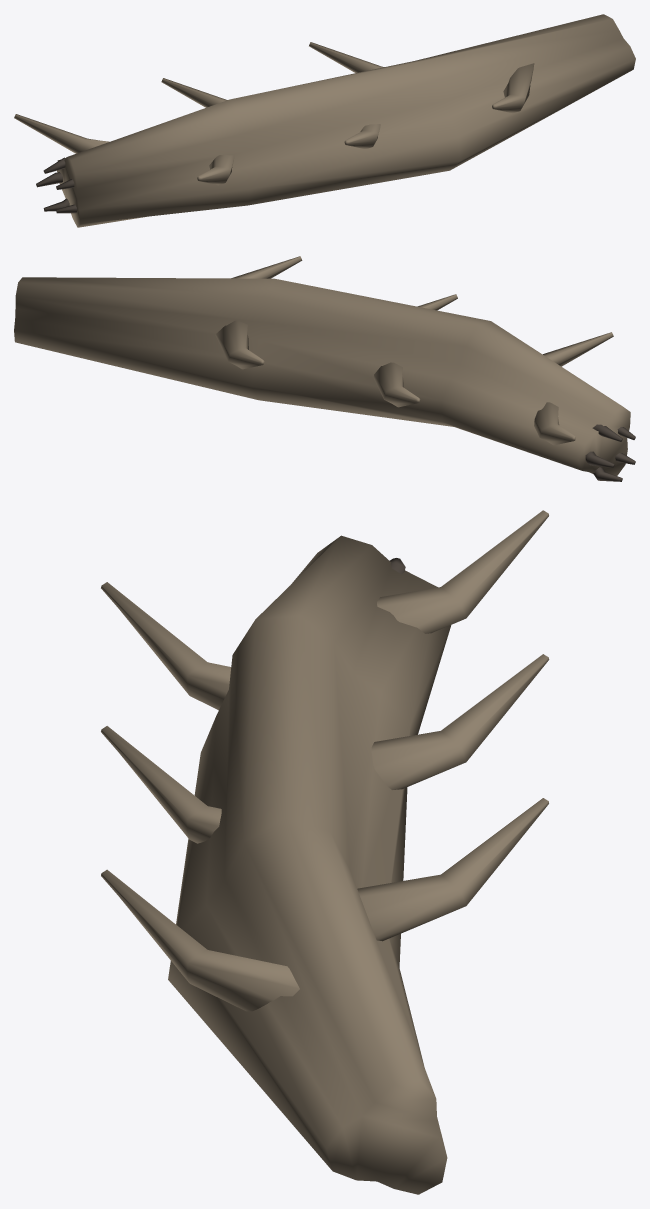
The model's file is sc_driftwood.glb.
3 renders of one model, top to bottom at view 1: azimuth 30°, elevation 25°; view 2: azimuth 150°, elevation 25°; view 3: azimuth 270°, elevation 25°, orthographic. The views are drawn at different scales.
Visible parts, largest first — view 1: sc_driftwood; view 2: sc_driftwood; view 3: sc_driftwood.
Boxes of the visible parts, box(x1,y1,x2,y2) form: sc_driftwood: box(14, 14, 635, 227); sc_driftwood: box(14, 256, 635, 481); sc_driftwood: box(101, 510, 549, 1194).
Size of the model in its own units: 3.66 by 0.6413 by 1.24.
